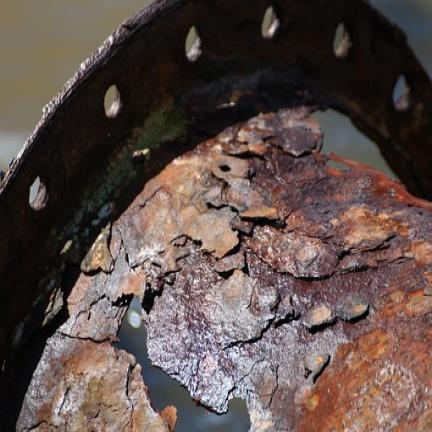karat: (297, 176, 429, 432), (213, 135, 296, 389)
